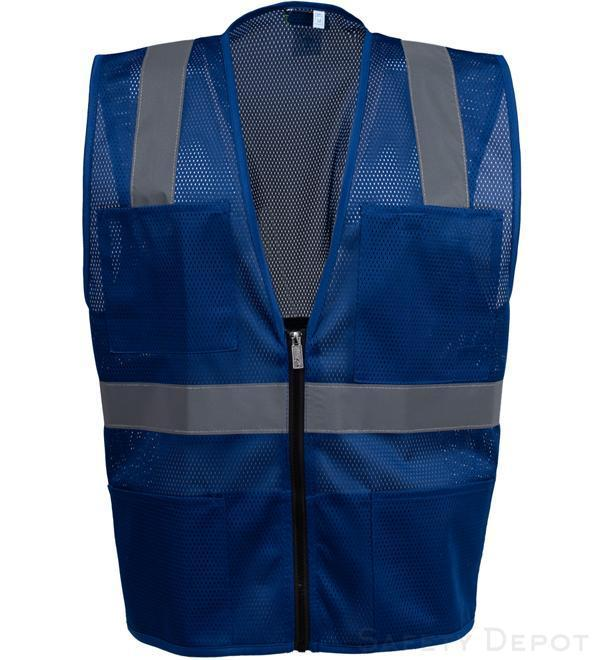vest: (80, 1, 519, 659)
